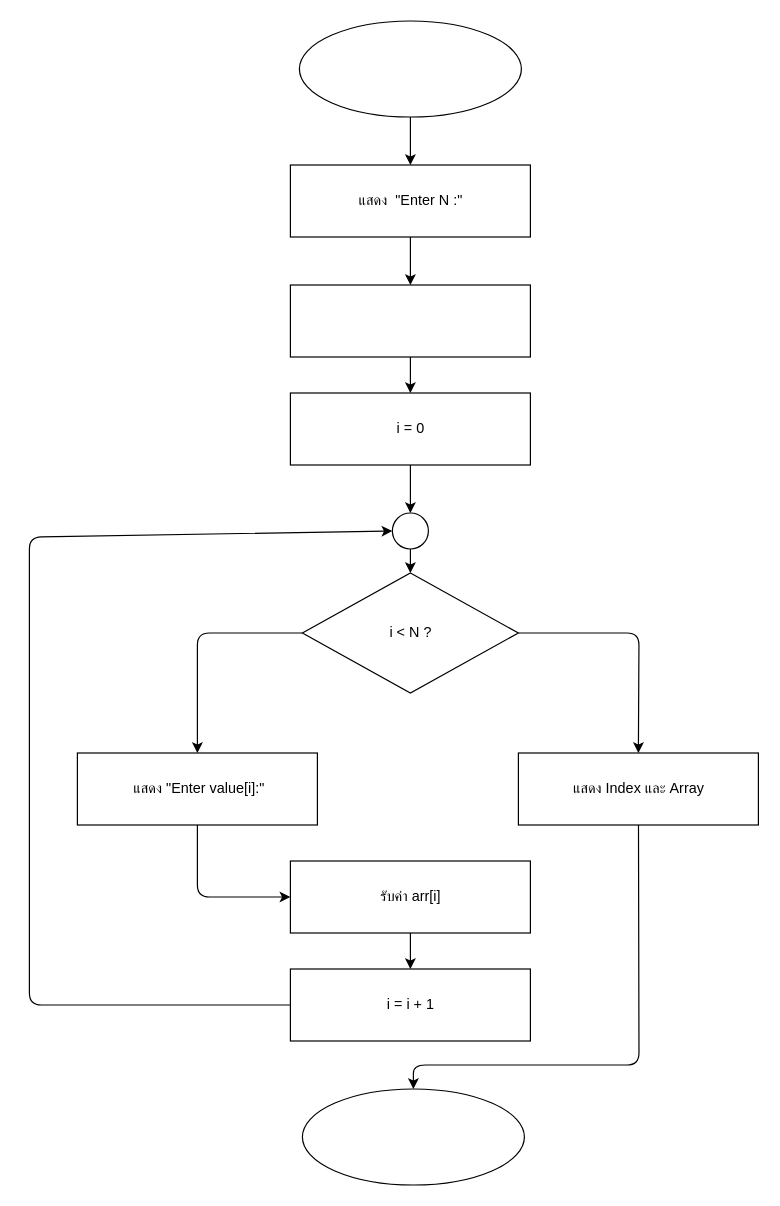
Some shapes in this 780 by 1206 pixel diagram are drawn without their labels. Each missing label, with the centre of its shape:
end: [412,1136]
start: [409,68]
รับค่า N: [409,320]
